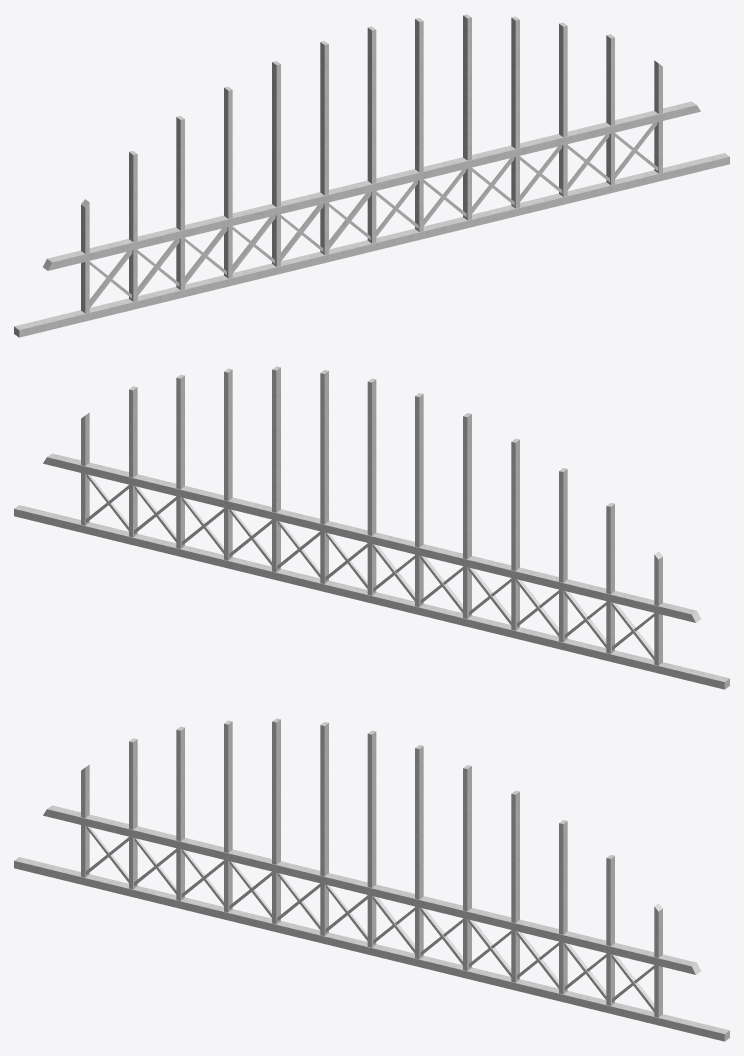
File: ceilingframe_G_001.fbx
The picture shows the model from 3 angles, top to bottom: view 1: azimuth 30°, elevation 25°; view 2: azimuth 150°, elevation 25°; view 3: azimuth 330°, elevation 25°; orthographic projection.
Parts seen in each view (by area): view 1: ceilingframe_G_001; view 2: ceilingframe_G_001; view 3: ceilingframe_G_001.
Part boxes in pixels (x1,y1,x2,y2): ceilingframe_G_001: (14,14,729,337); ceilingframe_G_001: (14,366,729,689); ceilingframe_G_001: (14,718,729,1041).
Bounding box in the file's own units: 2126 × 630 × 26.89.
1 material, 1 textured.
